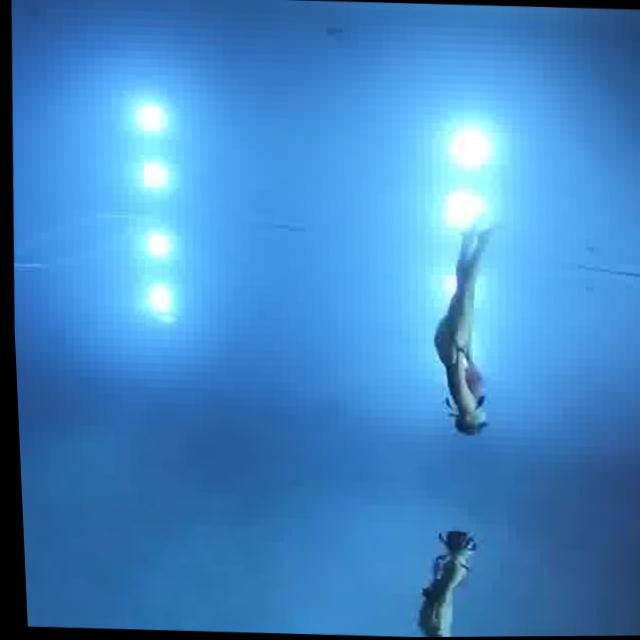human: (416, 215, 510, 449), (402, 510, 473, 638)
